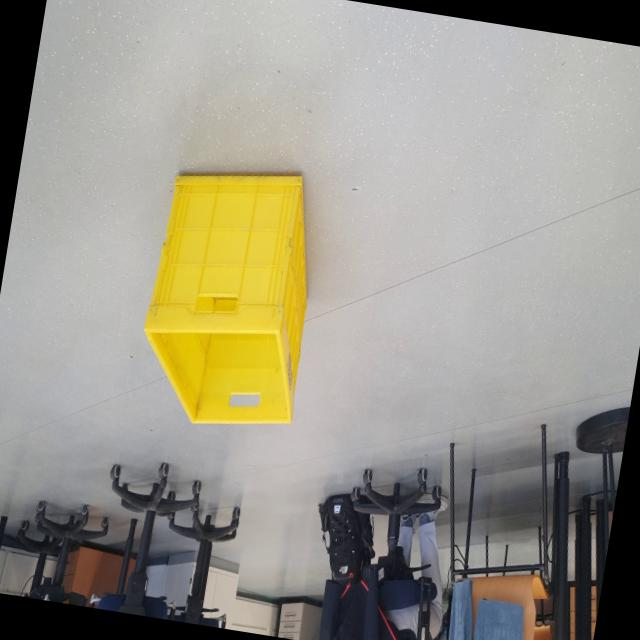box: (121, 140, 338, 453)
